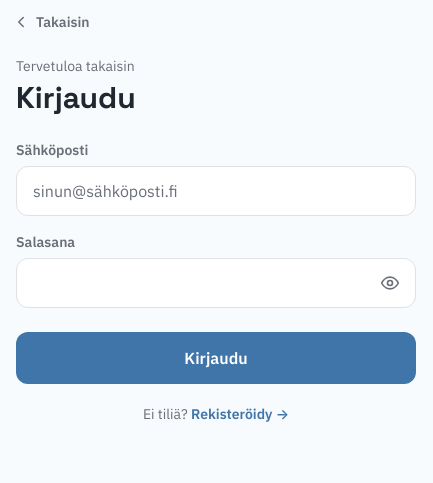
Login (integration) › shows field errors on empty submit and does not navigate
The width and height of the screenshot is (433, 483).
Click the button "Kirjaudu" at point(216, 358), box [16, 332, 416, 384]
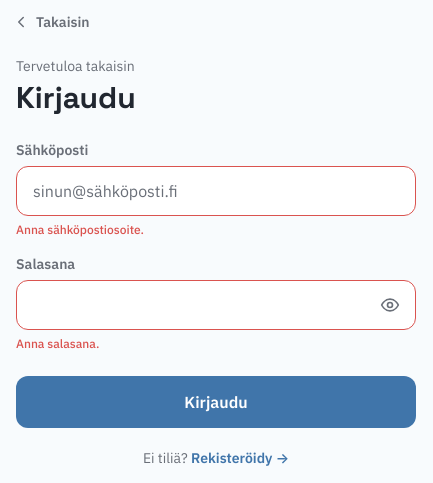
Expected: the text "Anna sähköpostiosoite." is shown, [16, 222, 144, 237]
Expected: the text "Anna salasana." is shown, [16, 336, 99, 351]
